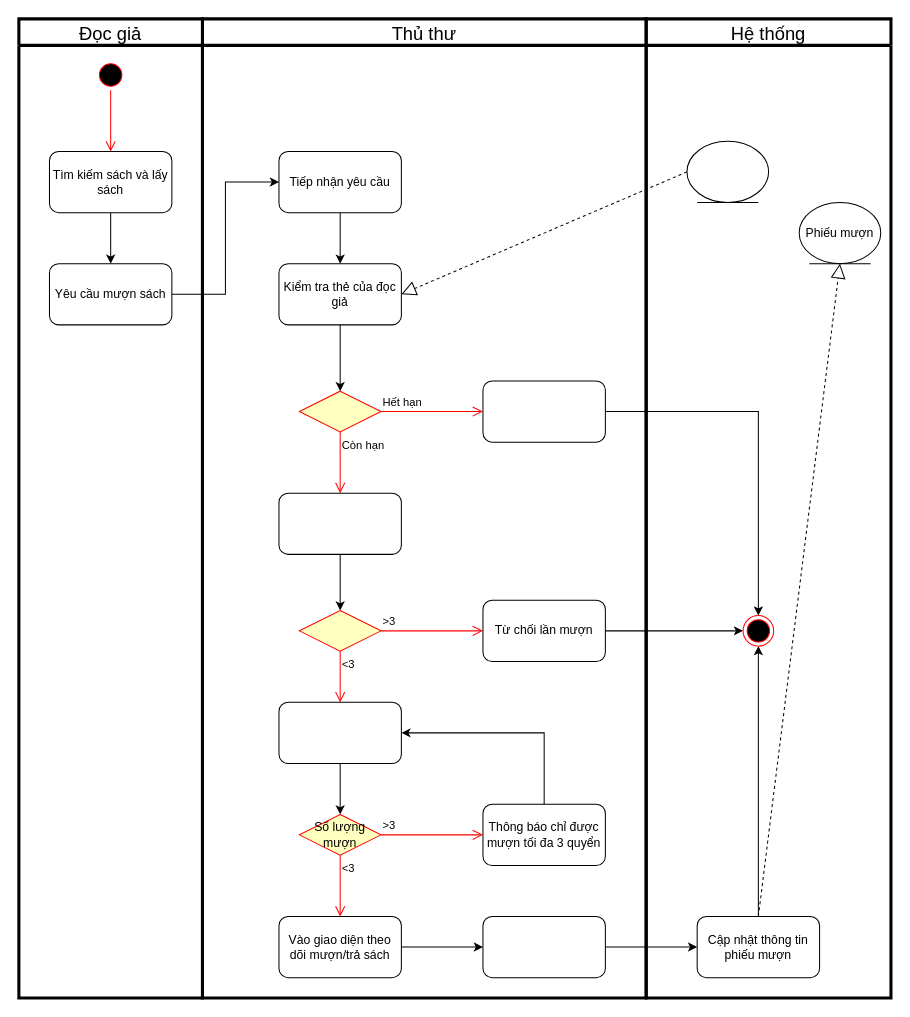
This 910x1017 diagram has some shape labels left out. The shapes that lost their labels are listed below. From the top down, each one's centre as x and y in pixels, then its label:
pixel 727 171: Thẻ
pixel 543 411: Yêu cầu đọc giả làm thẻ mới
pixel 339 523: Kiểm tra nợ sách
pixel 339 630: Số lượng
pixel 339 732: Cung cấp số lượng muốn mượn sách
pixel 543 946: Nhập thông tin lấy từ đọc giả
